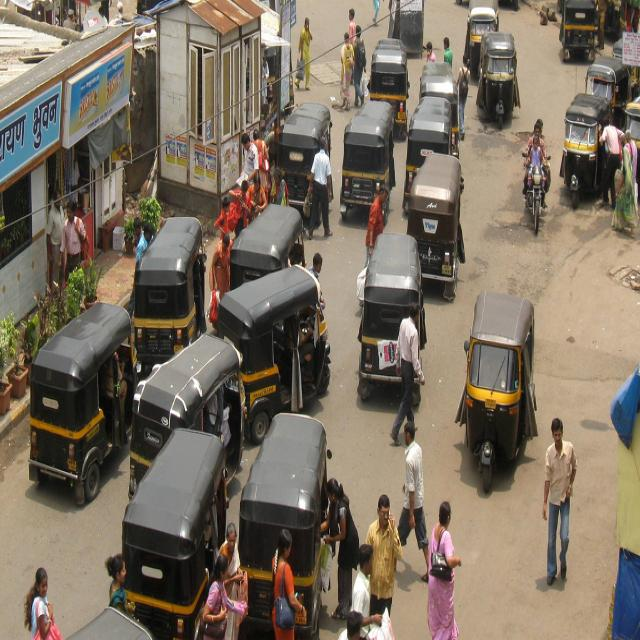autorikshaw: (121, 430, 228, 634), (30, 306, 139, 498), (243, 408, 332, 626), (219, 273, 332, 433), (134, 328, 244, 487), (466, 285, 536, 481), (134, 214, 208, 365), (362, 228, 425, 401), (406, 153, 464, 289), (342, 100, 393, 219), (282, 97, 331, 205), (565, 96, 609, 200), (478, 34, 519, 124), (370, 41, 407, 135)
motorcycle: (524, 153, 550, 229)
